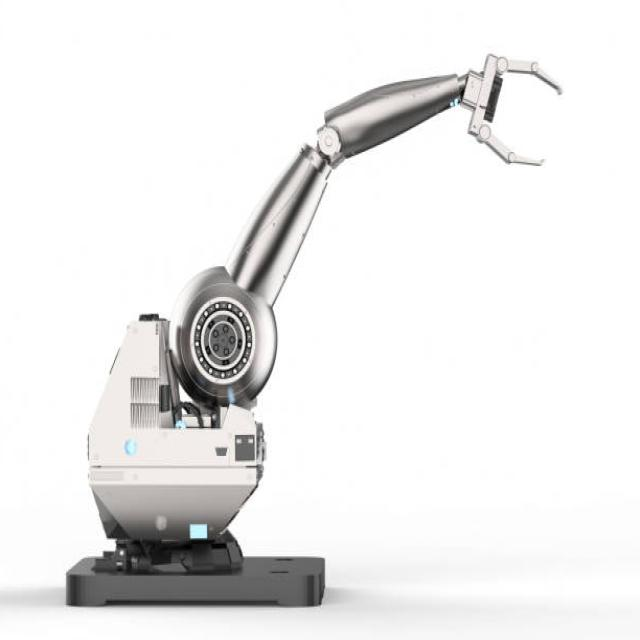Robotic-arm: (60, 38, 570, 616)
